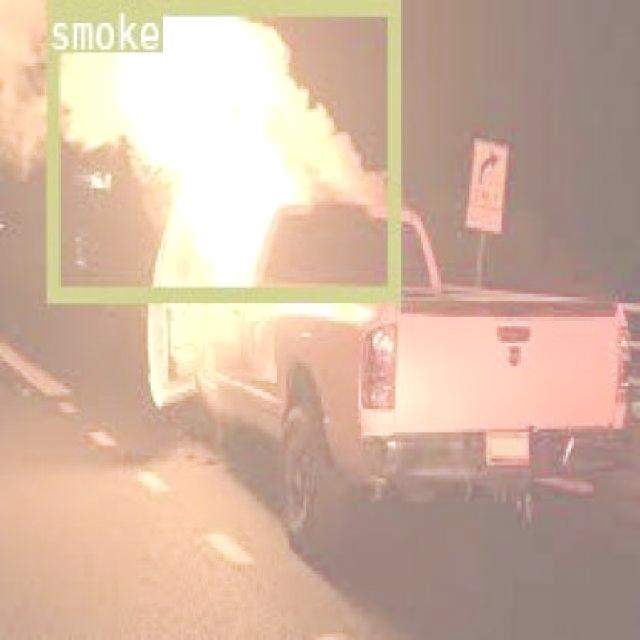smoke: (46, 0, 397, 297)
